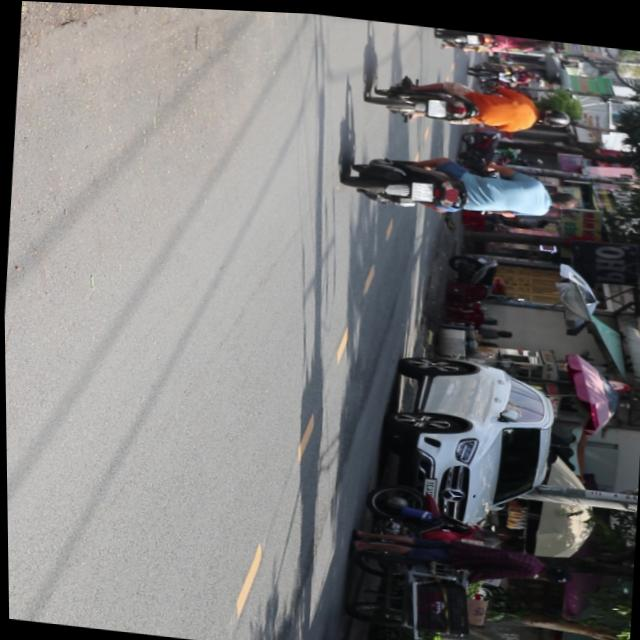helmet: (537, 102, 572, 123)
licenseplate: (342, 142, 584, 226), (368, 66, 574, 137)
motorcyclist: (548, 184, 581, 206)
nohelmet: (410, 177, 434, 197), (427, 95, 447, 113)
